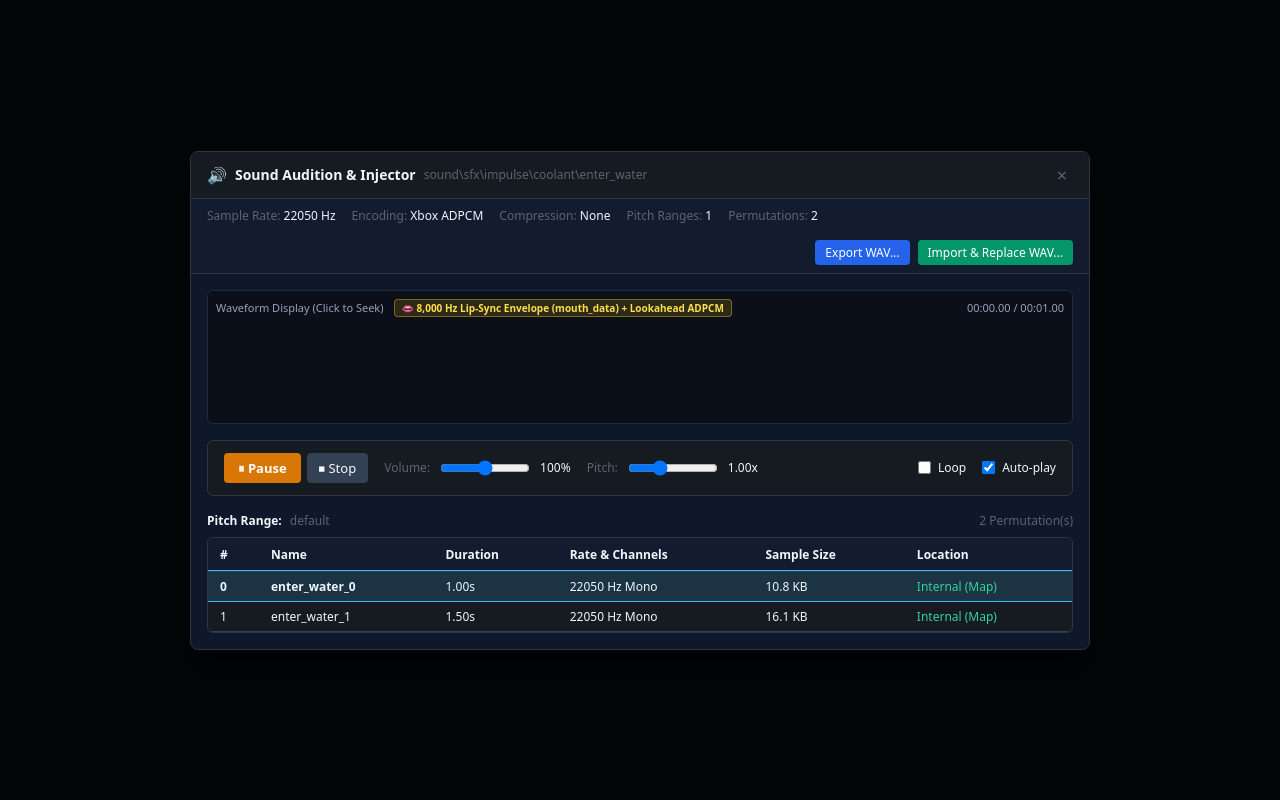
SoundAuditorDialog › exports a permutation to WAV
Click the button with test id "export-sound-wav-btn".
click(862, 252)  # box [815,240,910,264]
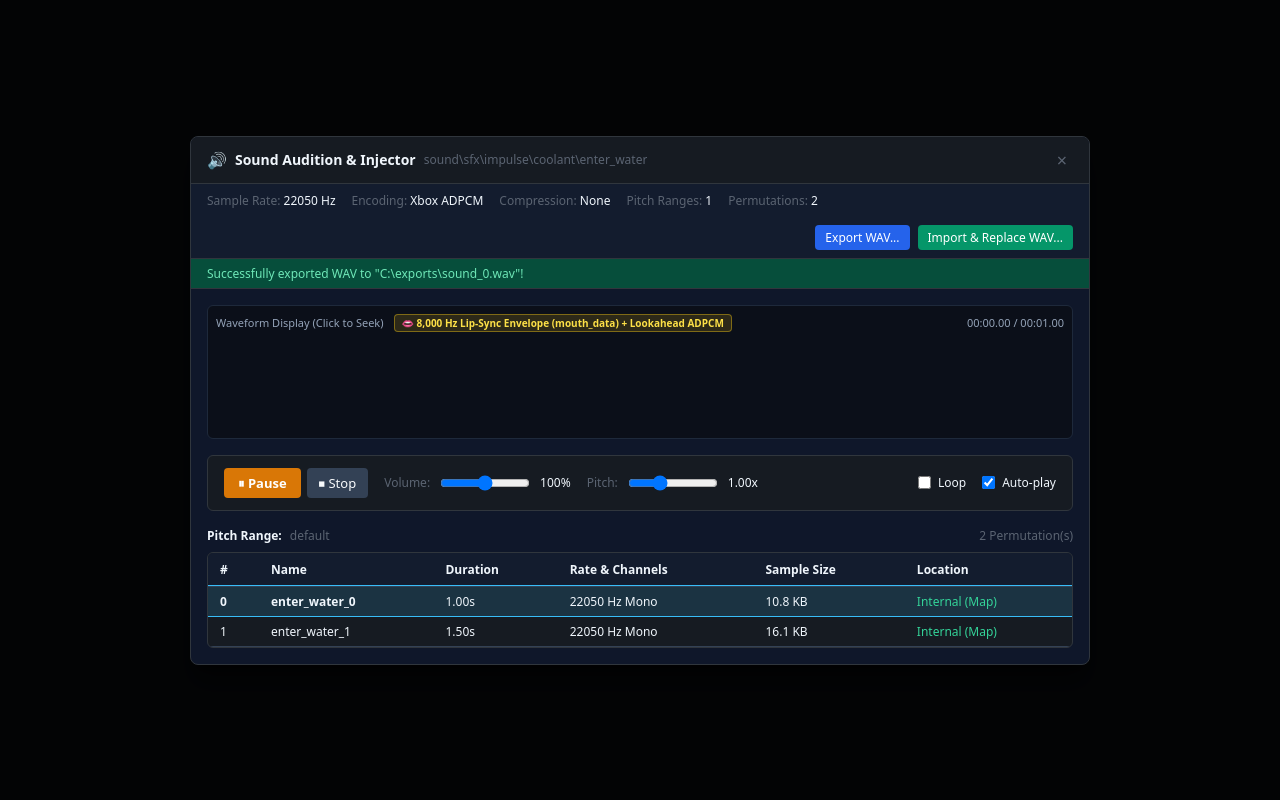
Expected: the text "Successfully exported WAV to \"C:\\exports\\sound_0.wav\"!" is shown, [191,258,1089,288]
